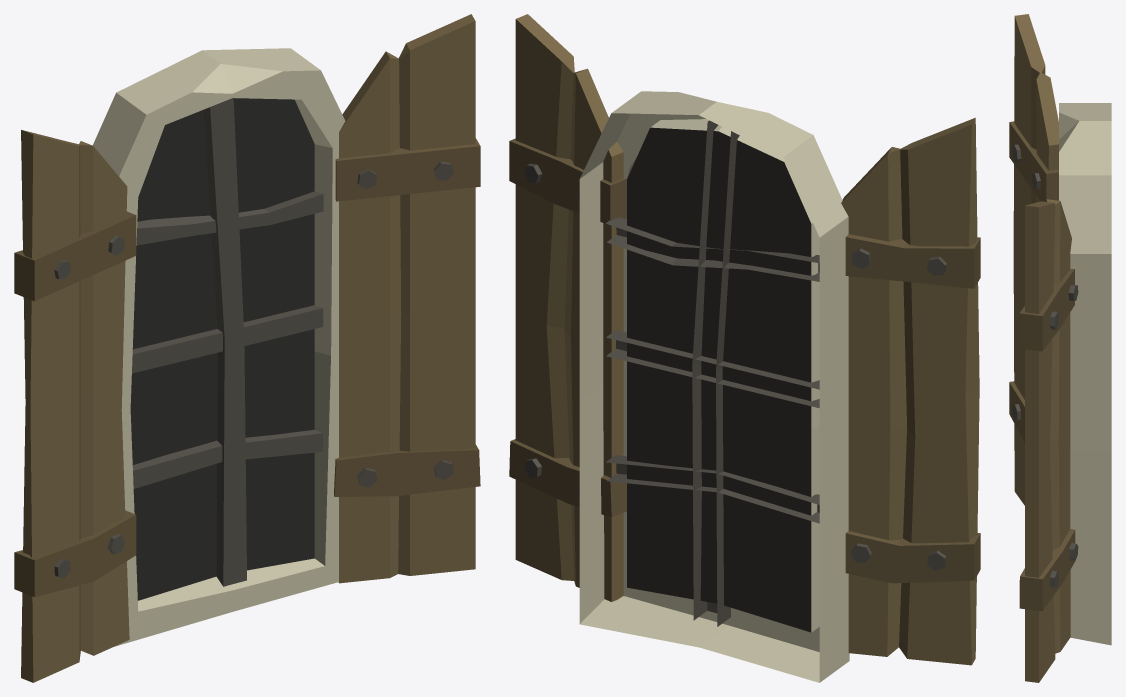
Rendered from Window_5.fbx.
3 views of the same model, side by side, from view 1: azimuth 30°, elevation 25°; view 2: azimuth 150°, elevation 25°; view 3: azimuth 270°, elevation 25° (orthographic). The views are drawn at different scales.
Parts seen in each view (by area): view 1: Window_5; view 2: Window_5; view 3: Window_5.
Part boxes in pixels (<box>): Window_5: <box>14,14,480,682</box>; Window_5: <box>509,14,980,682</box>; Window_5: <box>1009,14,1111,682</box>.
Bounding box in the file's own units: 124 × 142 × 27.31.
